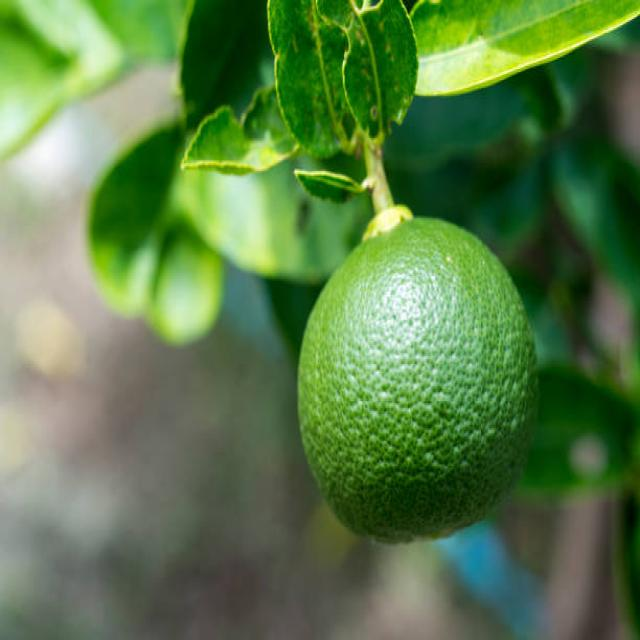Unripe: (294, 210, 540, 542)
